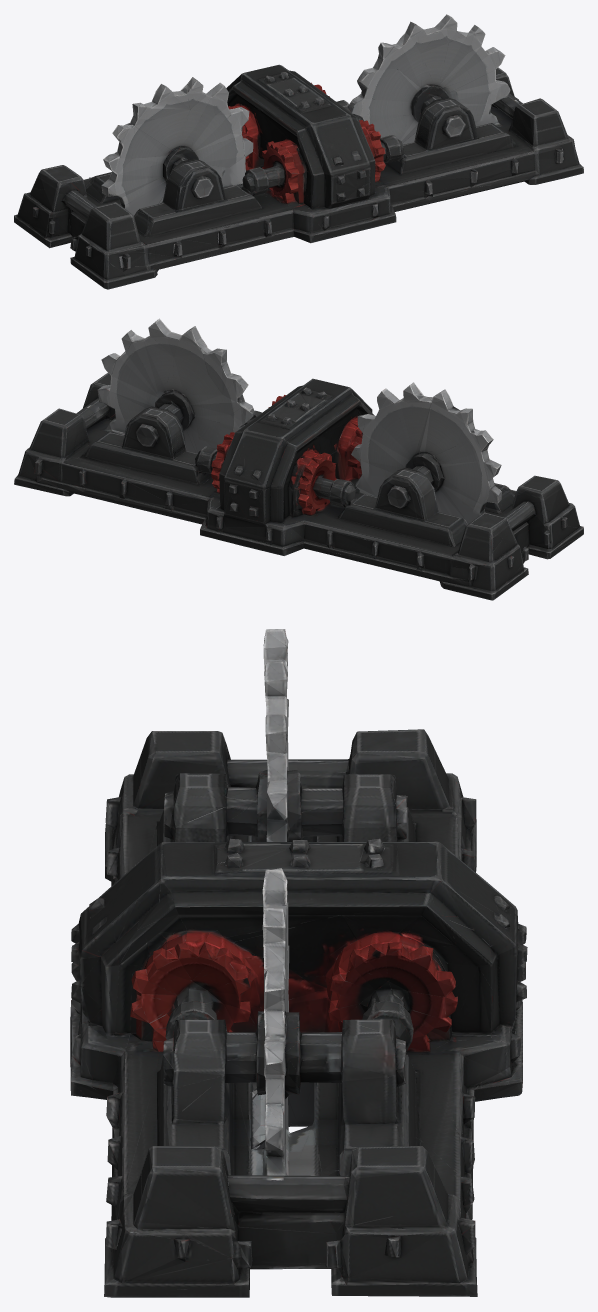
The picture shows the model from 3 angles, top to bottom: view 1: azimuth 30°, elevation 25°; view 2: azimuth 150°, elevation 25°; view 3: azimuth 270°, elevation 25°; orthographic projection. The views are drawn at different scales.
Parts seen in each view (by area): view 1: mesh_node; view 2: mesh_node; view 3: mesh_node.
Boxes of the visible parts, <box> form: mesh_node: <box>14,14,583,289</box>; mesh_node: <box>14,318,583,600</box>; mesh_node: <box>70,629,527,1297</box>.
Size of the model in its own units: 2 by 0.6527 by 0.8275.
1 material, 1 textured.
